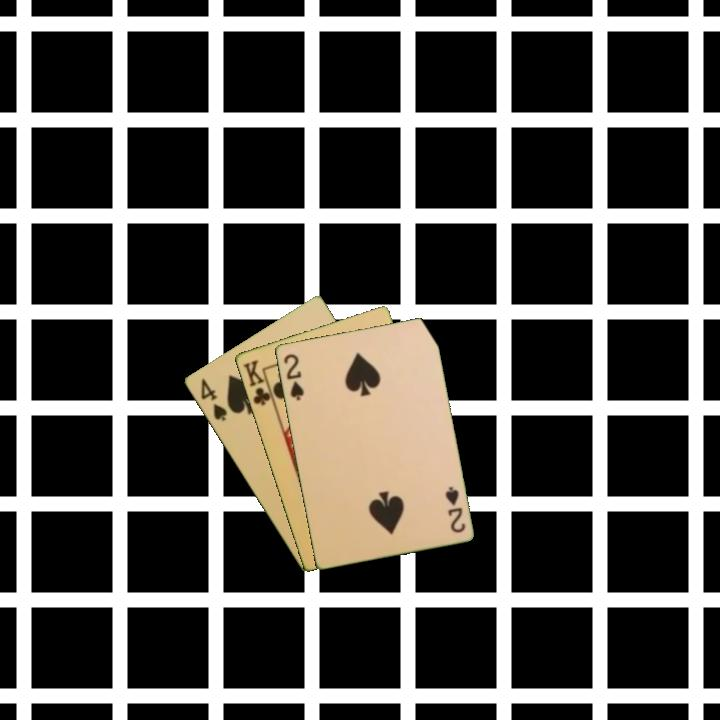2s: (441, 483, 468, 535), (280, 350, 306, 403)
4s: (197, 374, 230, 424)
Kc: (239, 356, 277, 408)
